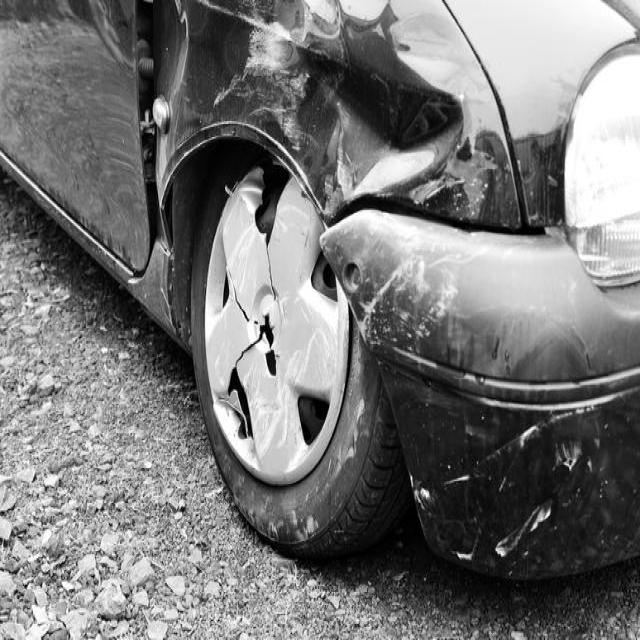Dent: (361, 238, 454, 338), (55, 207, 134, 283), (246, 182, 282, 341), (494, 499, 550, 554), (412, 174, 460, 207), (296, 181, 327, 229), (224, 270, 245, 334), (566, 322, 591, 365), (174, 3, 188, 73), (554, 439, 582, 471), (124, 252, 148, 286), (516, 422, 540, 451), (256, 105, 289, 120), (415, 486, 430, 508), (454, 545, 474, 560), (443, 474, 468, 484), (491, 335, 500, 359), (305, 513, 315, 534), (469, 372, 485, 385), (584, 348, 592, 368), (546, 172, 558, 184), (423, 378, 432, 388), (502, 349, 508, 360)
